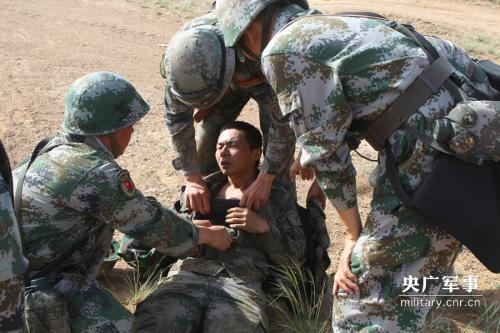falling: (126, 112, 312, 333)
